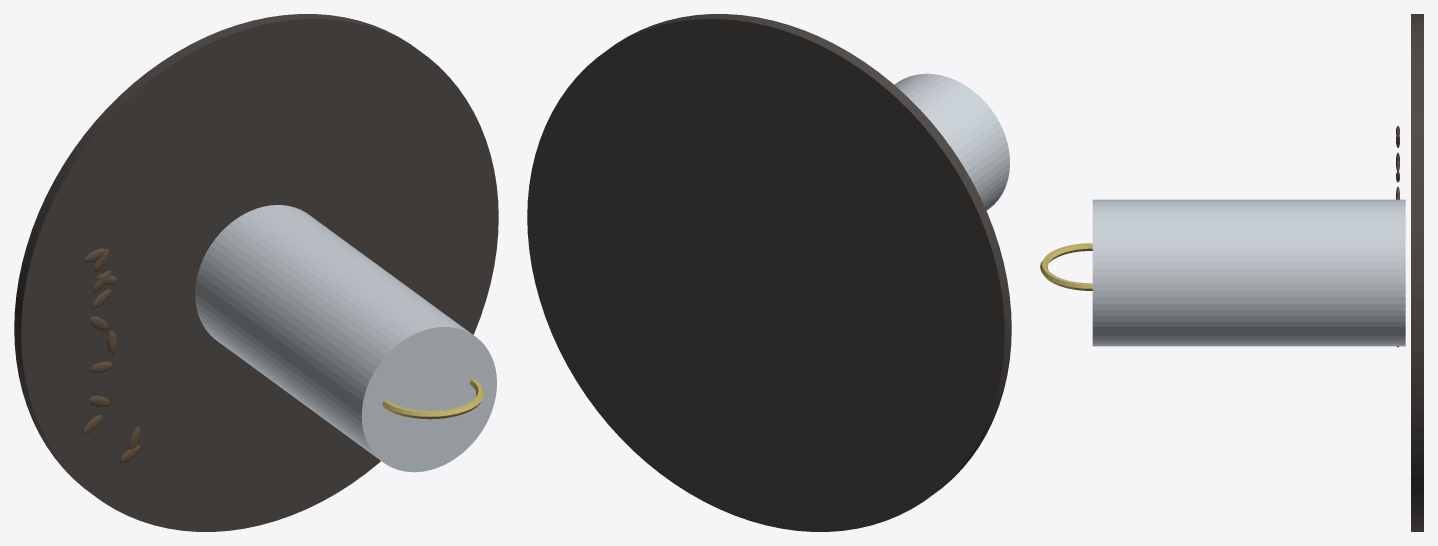
Rendered from 12_bergamot_earl_grey_elixir_non_alcoholic.glb.
The picture shows the model from 3 angles, left to right: view 1: azimuth 30°, elevation 25°; view 2: azimuth 150°, elevation 25°; view 3: azimuth 270°, elevation 25°; orthographic projection. The views are drawn at different scales.
Visible parts, largest first — view 1: dark_charcoal_surface, tall_crystal_glass, thin_bergamot_peel; view 2: dark_charcoal_surface, tall_crystal_glass; view 3: tall_crystal_glass, dark_charcoal_surface, thin_bergamot_peel.
Boxes of the visible parts, x1=… form: dark_charcoal_surface: x1=14, y1=14, x2=498, y2=531; tall_crystal_glass: x1=195, y1=205, x2=496, y2=472; thin_bergamot_peel: x1=382, y1=379, x2=484, y2=419; dark_charcoal_surface: x1=527, y1=14, x2=1011, y2=531; tall_crystal_glass: x1=894, y1=73, x2=1009, y2=210; tall_crystal_glass: x1=1092, y1=199, x2=1405, y2=346; dark_charcoal_surface: x1=1411, y1=14, x2=1423, y2=531; thin_bergamot_peel: x1=1040, y1=243, x2=1092, y2=290.
Size of the model in its own units: 0.24 by 0.24 by 0.1778.
